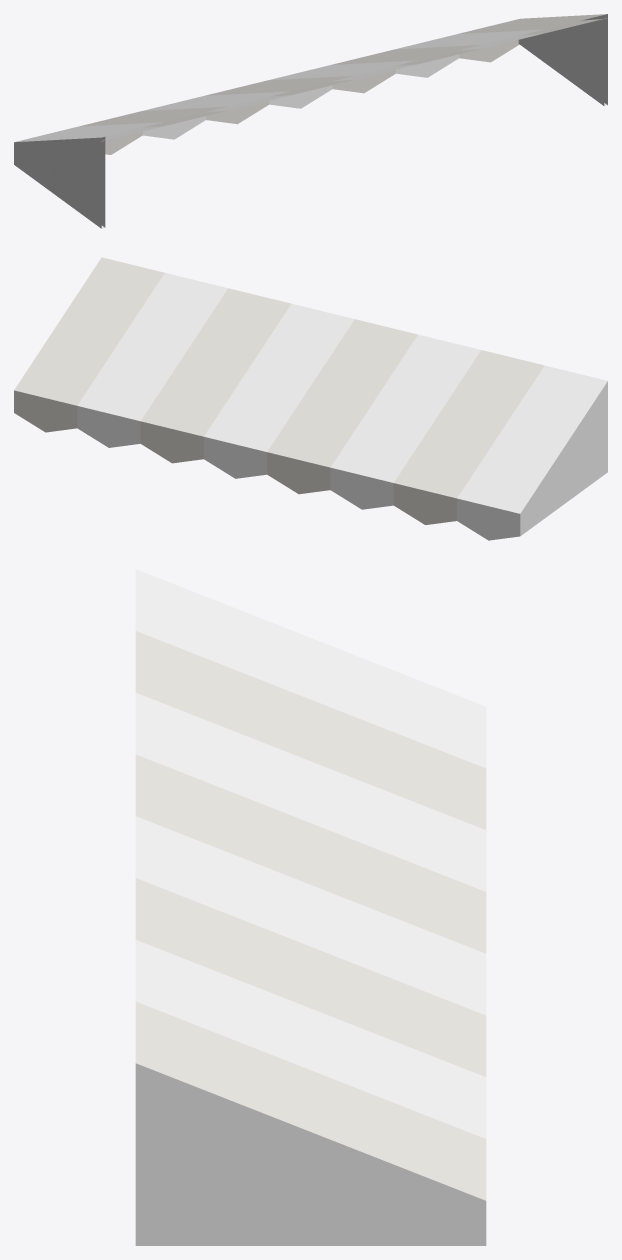
File: shop_awning.glb
3 renders of one model, top to bottom at view 1: azimuth 30°, elevation 25°; view 2: azimuth 150°, elevation 25°; view 3: azimuth 270°, elevation 25°, orthographic. The views are drawn at different scales.
Parts seen in each view (by area): view 1: shop_awning__mesh; view 2: shop_awning__mesh; view 3: shop_awning__mesh.
Boxes of the visible parts, bbox=[...] form: shop_awning__mesh: bbox=[14, 14, 607, 228]; shop_awning__mesh: bbox=[14, 257, 607, 540]; shop_awning__mesh: bbox=[135, 569, 486, 1245].
Bounding box in the file's own units: 4 × 0.78 × 1.2.
Materials: 1 (1 with a texture image).
